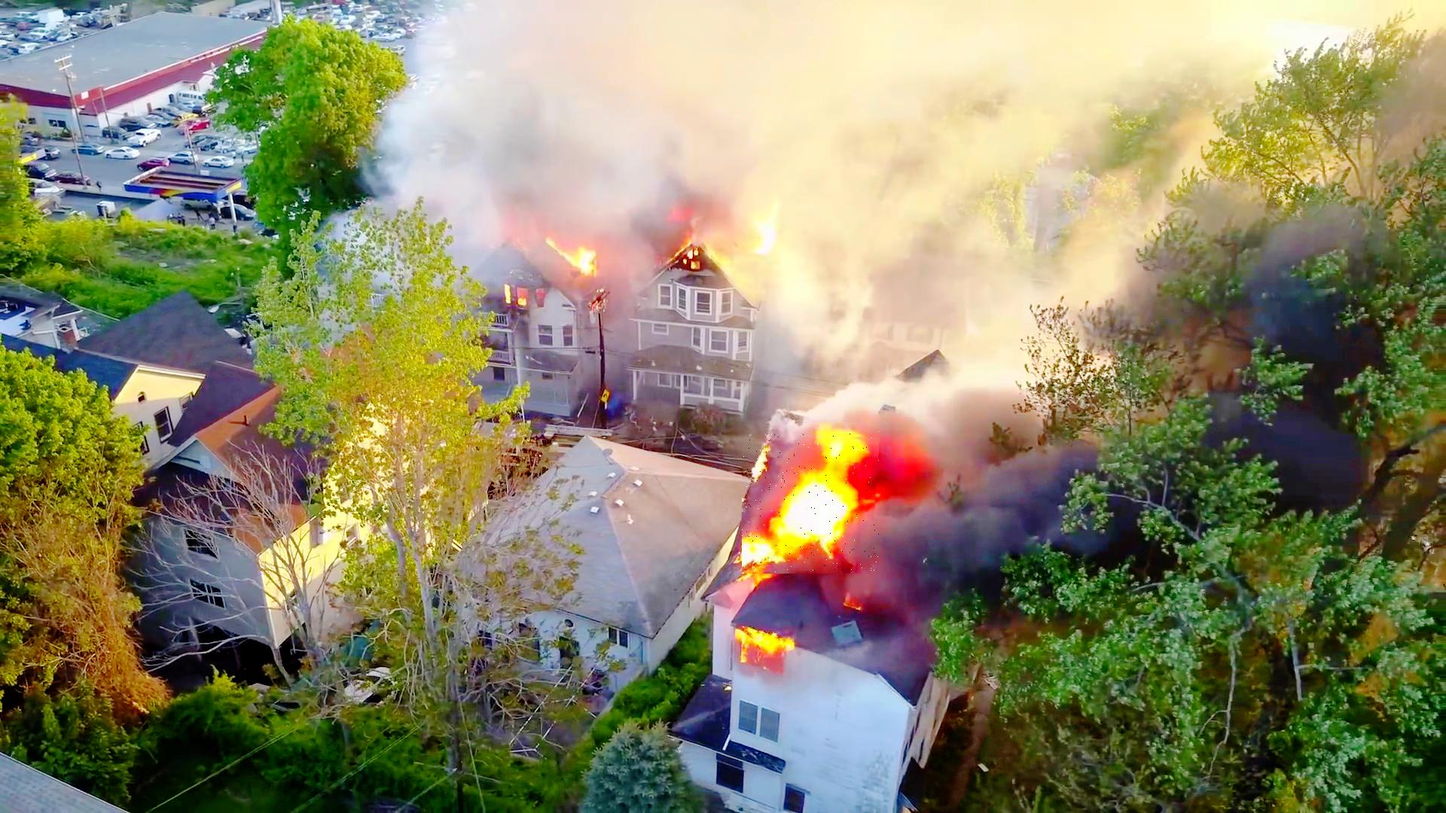fire: (742, 431, 880, 574)
